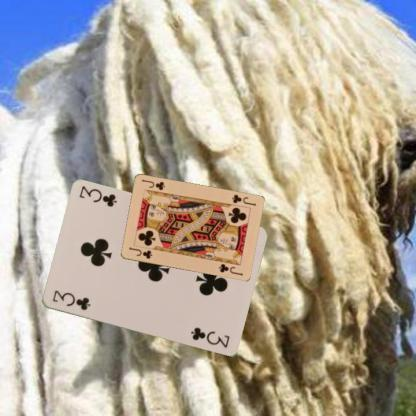3c: (49, 288, 91, 312)
Jc: (228, 192, 258, 208), (126, 244, 153, 260)
